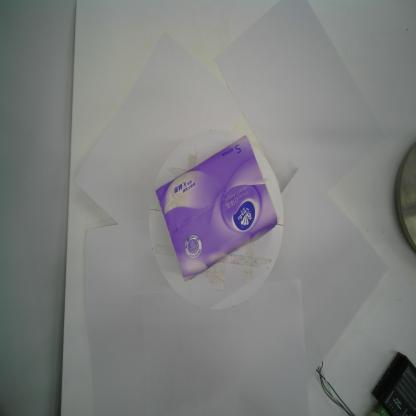Tissue: (154, 132, 280, 283)
